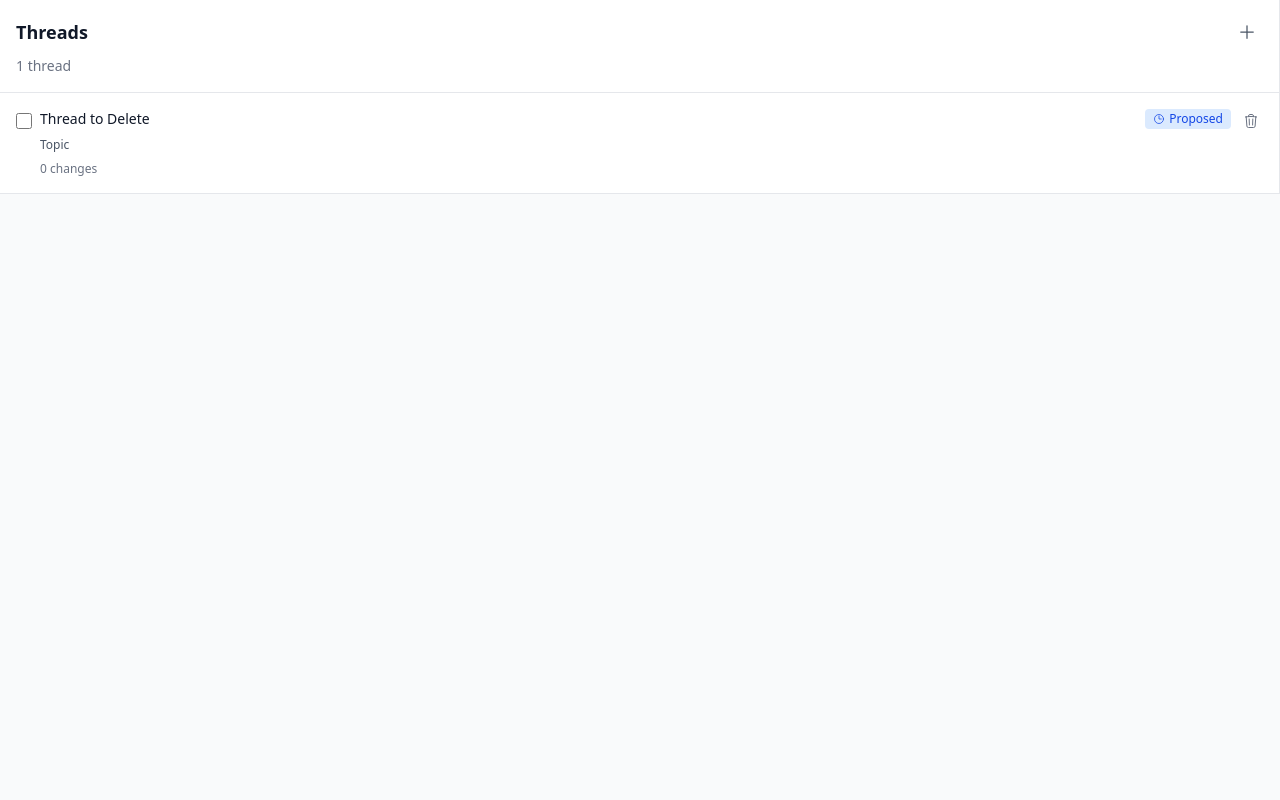
Test: ThreadListPanel › deletes thread when confirmed
Click the button titled "Delete thread": click(1251, 121) [1239,109,1263,133]
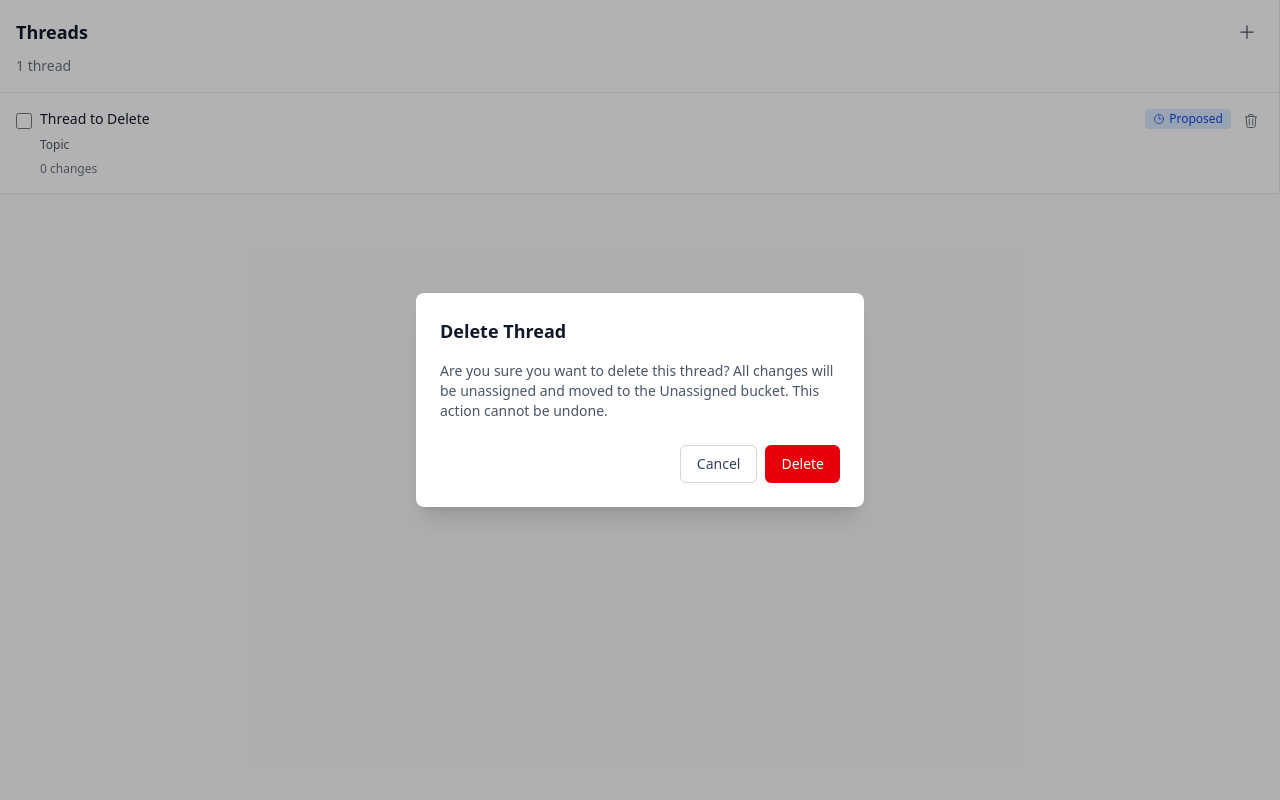
Click the button "Delete": click(803, 464) [765,445,840,483]
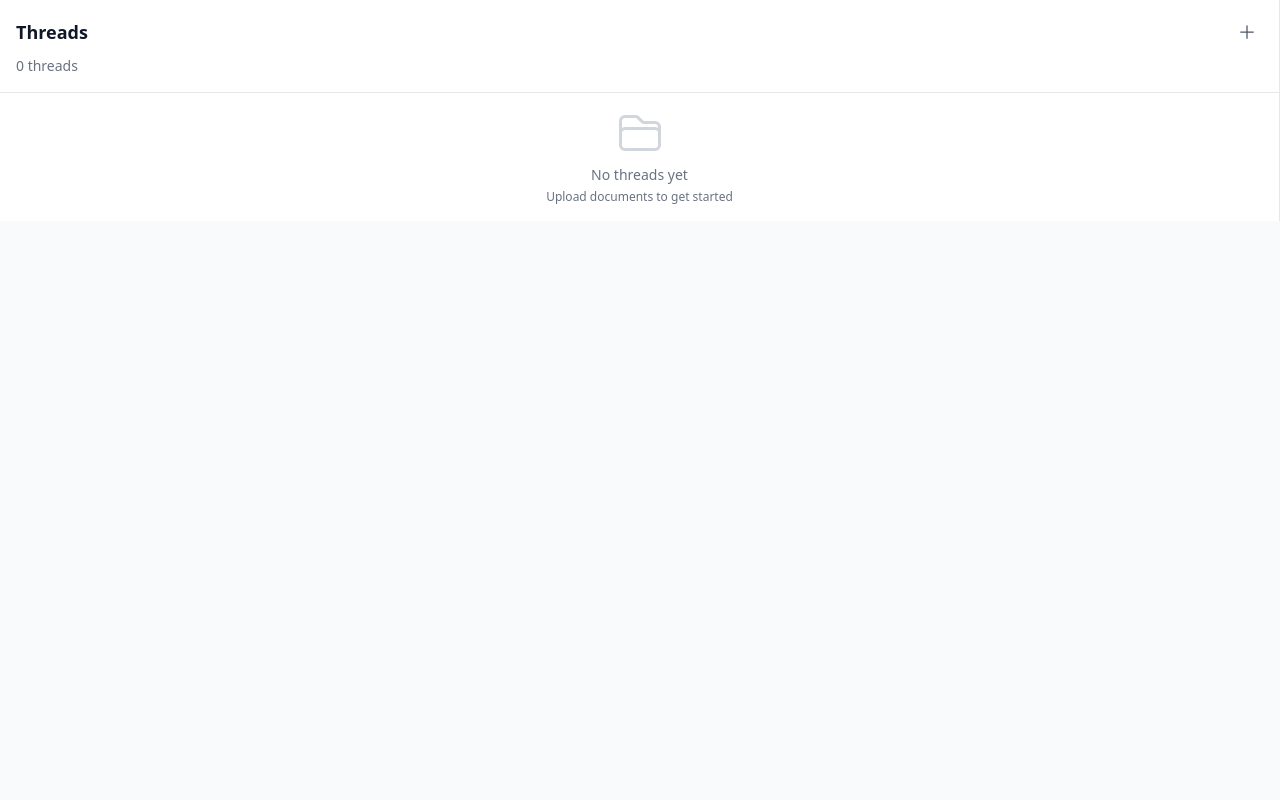
Expected: the heading "Delete Thread" is gone
Expected: the button "Thread to Delete" is gone
